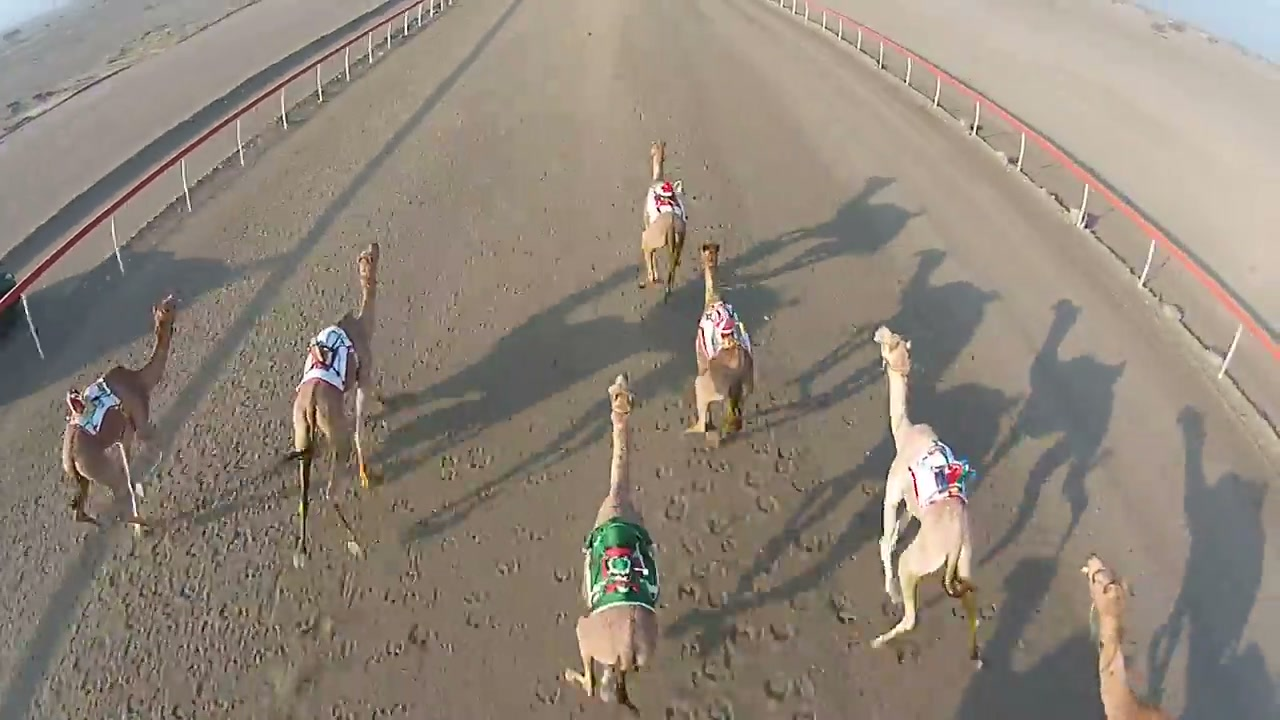animal_footprint: (318, 431, 575, 719), (653, 402, 886, 715)
